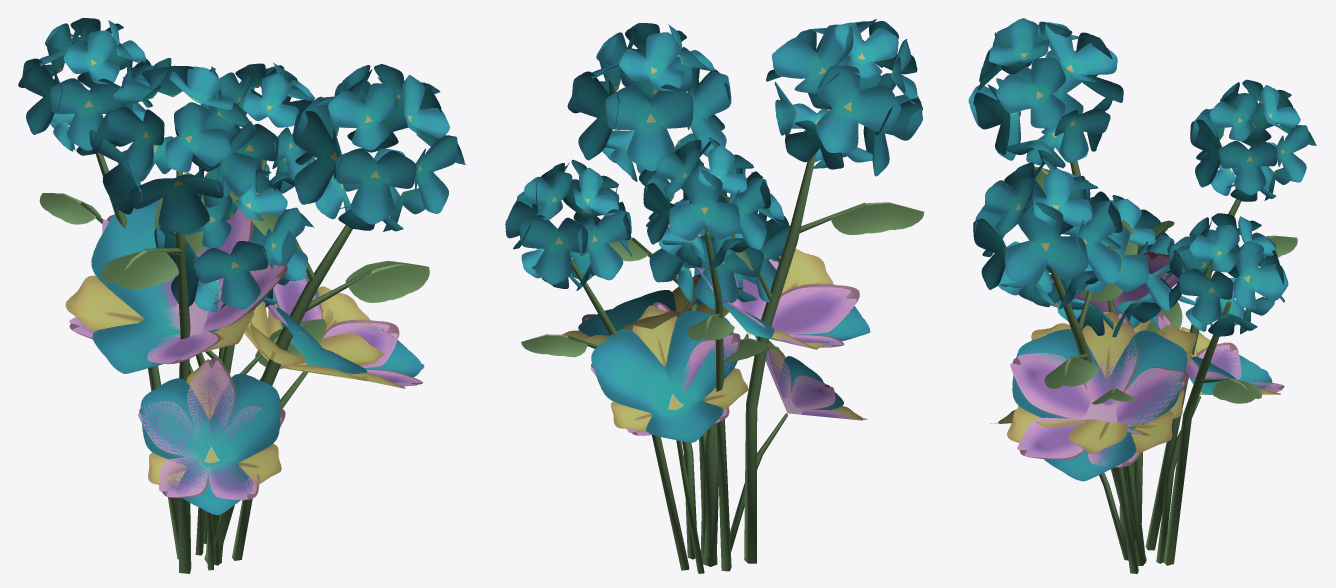
The model's file is flowers.glb.
The picture shows the model from 3 angles, left to right: view 1: azimuth 30°, elevation 25°; view 2: azimuth 150°, elevation 25°; view 3: azimuth 270°, elevation 25°; orthographic projection. The views are drawn at different scales.
Parts seen in each view (by area): view 1: Flower_1_Clump, Flower_3_Clump, Flower_5_Clump, Flower_1, Flower_2_Clump, Flower_2, Flower_4_Clump; view 2: Flower_1_Clump, Flower_3_Clump, Flower_5_Clump, Flower_1, Flower_2_Clump, Flower_2, Flower_4_Clump; view 3: Flower_1_Clump, Flower_5_Clump, Flower_3_Clump, Flower_1, Flower_2_Clump, Flower_2, Flower_4_Clump.
Boxes of the visible parts, <box> form: Flower_1_Clump: <box>18,18,465,573</box>; Flower_3_Clump: <box>91,199,424,570</box>; Flower_5_Clump: <box>69,195,422,570</box>; Flower_1: <box>154,166,326,555</box>; Flower_2_Clump: <box>65,275,405,490</box>; Flower_2: <box>204,283,384,556</box>; Flower_4_Clump: <box>69,215,422,500</box>; Flower_1_Clump: <box>505,19,924,571</box>; Flower_3_Clump: <box>578,228,870,561</box>; Flower_5_Clump: <box>585,224,866,573</box>; Flower_1: <box>646,172,790,560</box>; Flower_2_Clump: <box>562,248,863,431</box>; Flower_2: <box>579,287,743,563</box>; Flower_4_Clump: <box>547,223,867,435</box>; Flower_1_Clump: <box>968,18,1316,565</box>; Flower_5_Clump: <box>995,253,1282,573</box>; Flower_3_Clump: <box>999,272,1272,560</box>; Flower_1: <box>1046,195,1182,563</box>; Flower_2_Clump: <box>998,253,1280,452</box>; Flower_2: <box>1018,311,1196,565</box>; Flower_4_Clump: <box>991,252,1284,467</box>.
Bounding box in the file's own units: 0.4754 × 0.6713 × 0.4352.
Materials: 1 (1 with a texture image).
